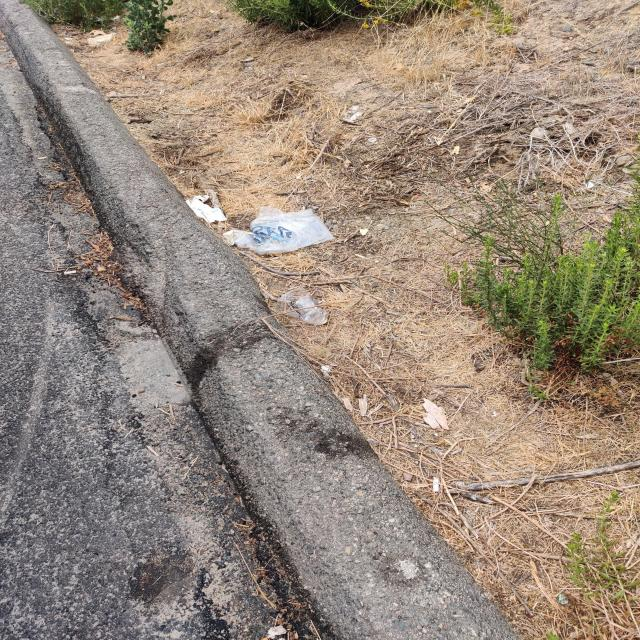litter: (222, 207, 333, 255), (275, 288, 328, 324), (185, 195, 227, 224), (559, 594, 570, 604), (433, 477, 439, 492)
